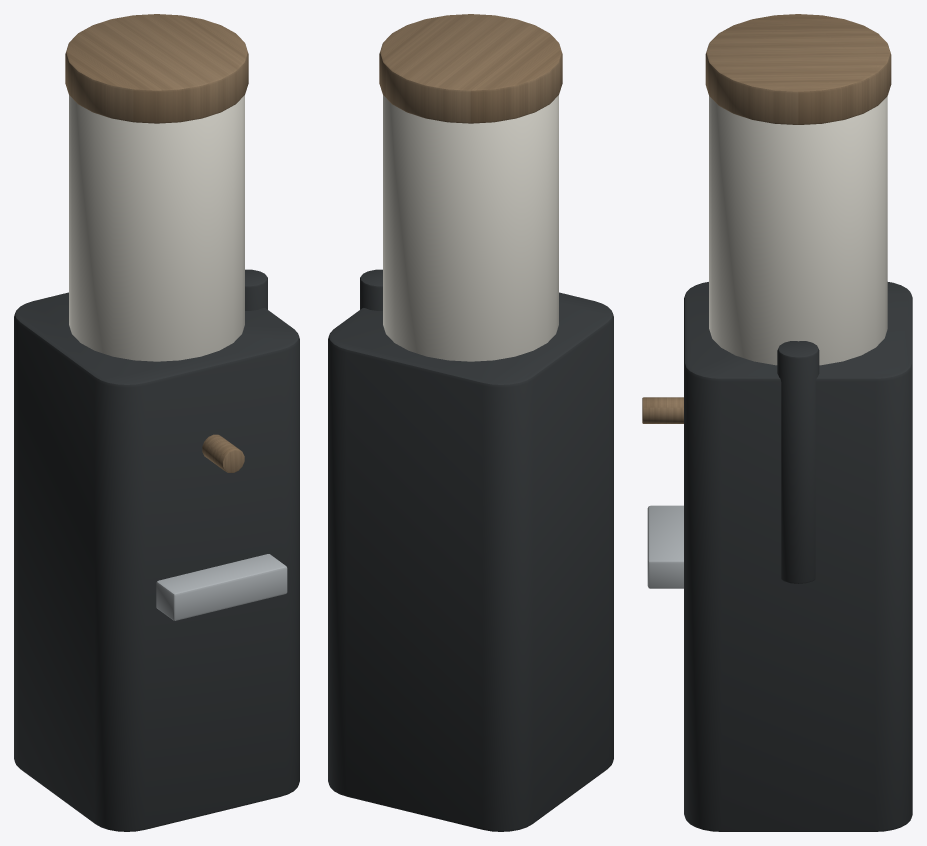
File: water_cooler_premium.glb
3 views of the same model, side by side, from view 1: azimuth 30°, elevation 25°; view 2: azimuth 150°, elevation 25°; view 3: azimuth 270°, elevation 25° (orthographic).
Parts seen in each view (by area): view 1: WaterCooler_Cabinet, WaterCooler_Tank, WaterCooler_Lid, WaterCooler_DrainTray, WaterCooler_Spigot, WaterCooler_CupDispenser; view 2: WaterCooler_Cabinet, WaterCooler_Tank, WaterCooler_Lid, WaterCooler_CupDispenser; view 3: WaterCooler_Cabinet, WaterCooler_Tank, WaterCooler_Lid, WaterCooler_CupDispenser, WaterCooler_DrainTray, WaterCooler_Spigot.
Boxes of the visible parts, <box> form: WaterCooler_Cabinet: <box>14,292,299,831</box>; WaterCooler_Tank: <box>69,95,244,361</box>; WaterCooler_Lid: <box>65,14,248,123</box>; WaterCooler_DrainTray: <box>156,554,287,620</box>; WaterCooler_Spigot: <box>202,434,244,472</box>; WaterCooler_CupDispenser: <box>245,269,267,310</box>; WaterCooler_Cabinet: <box>328,292,613,831</box>; WaterCooler_Tank: <box>383,95,558,361</box>; WaterCooler_Lid: <box>379,14,562,123</box>; WaterCooler_CupDispenser: <box>360,269,382,310</box>; WaterCooler_Cabinet: <box>684,282,912,831</box>; WaterCooler_Tank: <box>709,96,887,365</box>; WaterCooler_Lid: <box>705,14,891,124</box>; WaterCooler_CupDispenser: <box>777,341,819,583</box>; WaterCooler_DrainTray: <box>647,505,683,588</box>; WaterCooler_Spigot: <box>642,397,683,423</box>.
Size of what is drawn, in the model's own units: 0.455 by 1.5 by 0.5044.
4 materials, 1 textured.
